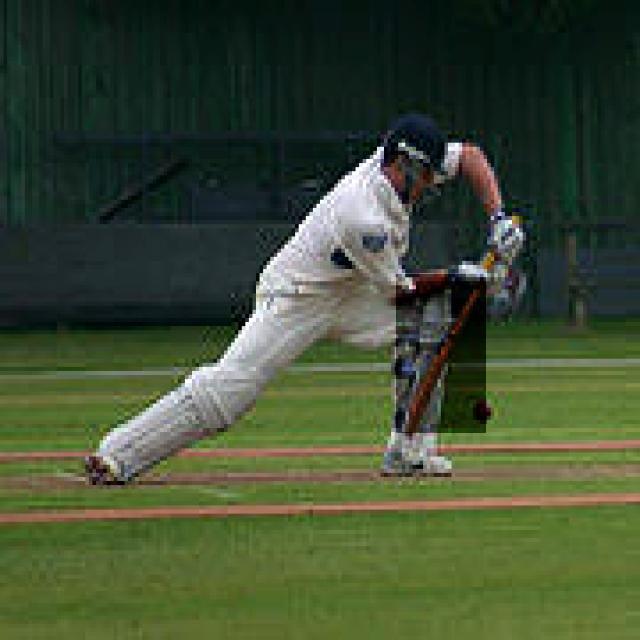bat: (397, 273, 485, 432)
